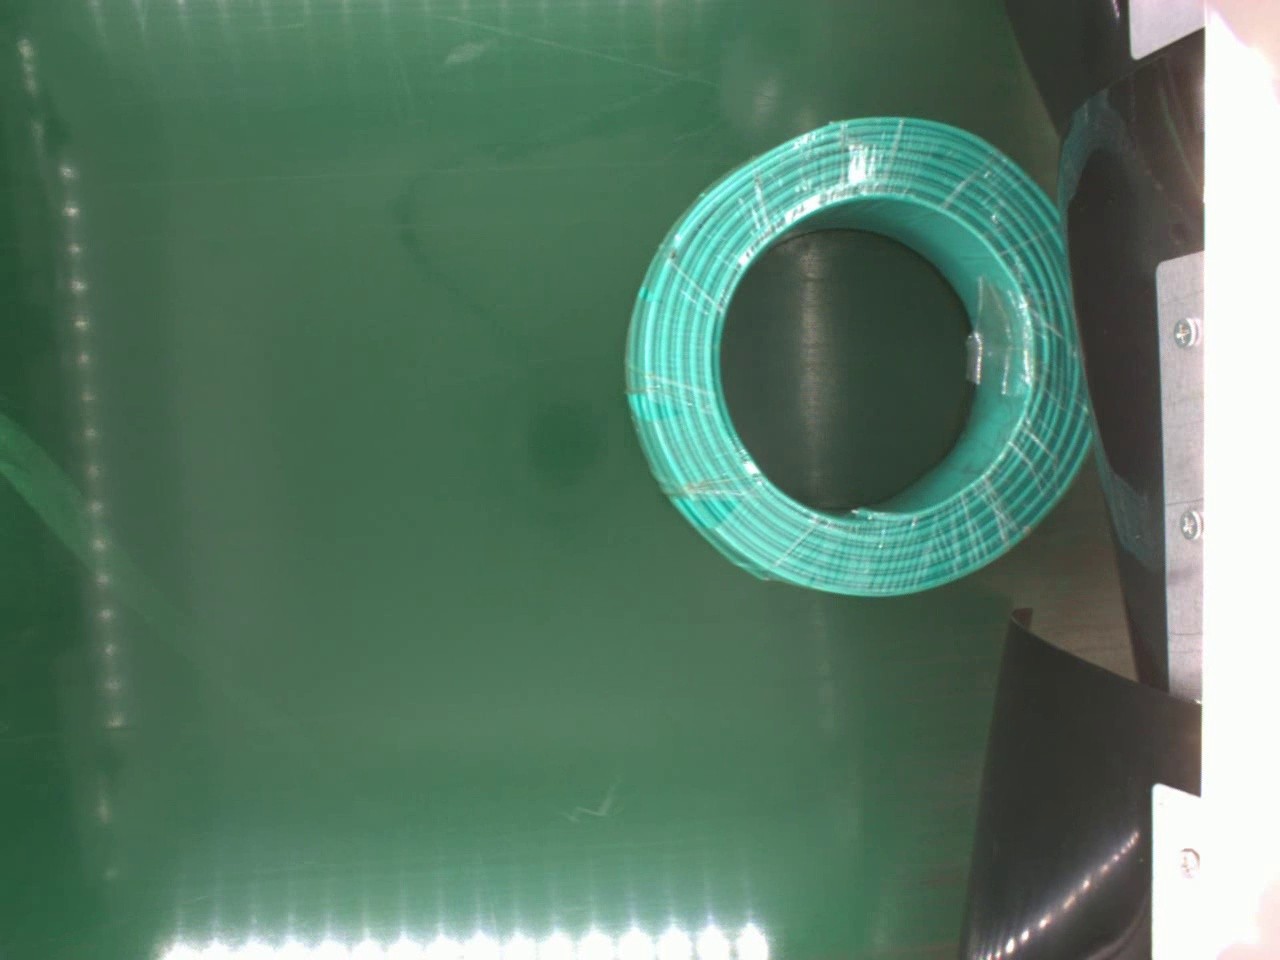green: (622, 113, 1094, 604)
